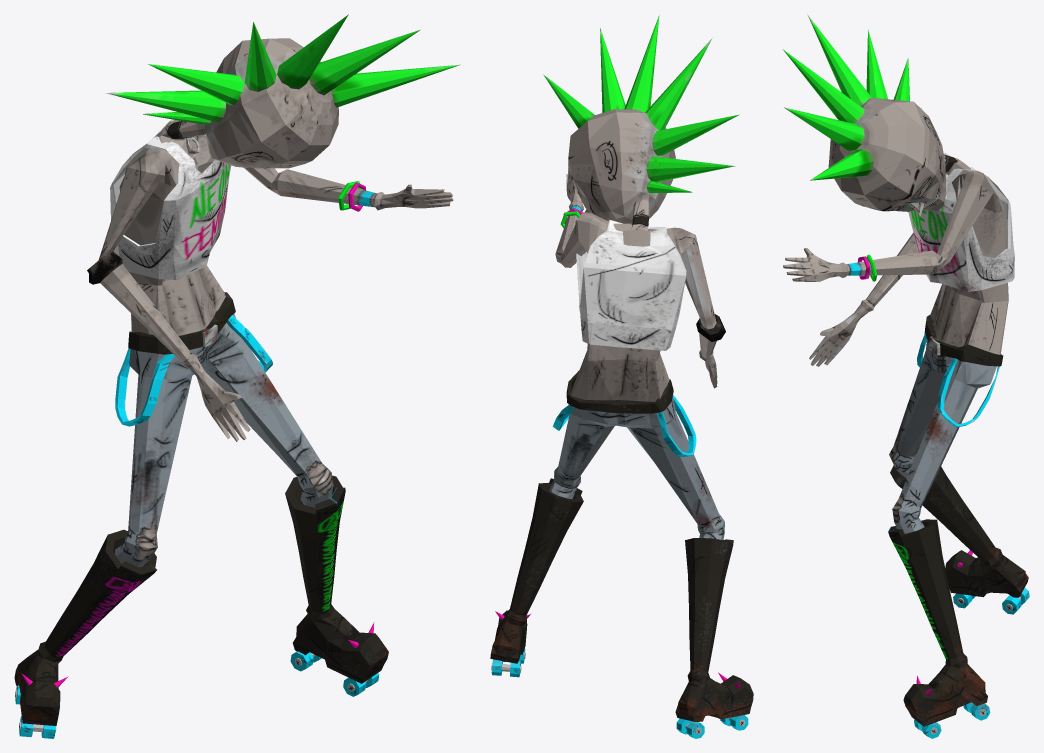
The model's file is punkAnimation_000055.obj.
3 renders of one model, left to right at view 1: azimuth 30°, elevation 25°; view 2: azimuth 150°, elevation 25°; view 3: azimuth 270°, elevation 25°, orthographic. The views are drawn at different scales.
Visible parts, largest first — view 1: Cube.004_Cube.003; view 2: Cube.004_Cube.003; view 3: Cube.004_Cube.003.
Boxes of the visible parts, x1,y1,x2,y2 form: Cube.004_Cube.003: [14, 14, 460, 738]; Cube.004_Cube.003: [490, 15, 753, 738]; Cube.004_Cube.003: [782, 14, 1029, 738].
Size of the model in its own units: 3.11 by 6.53 by 2.27.
